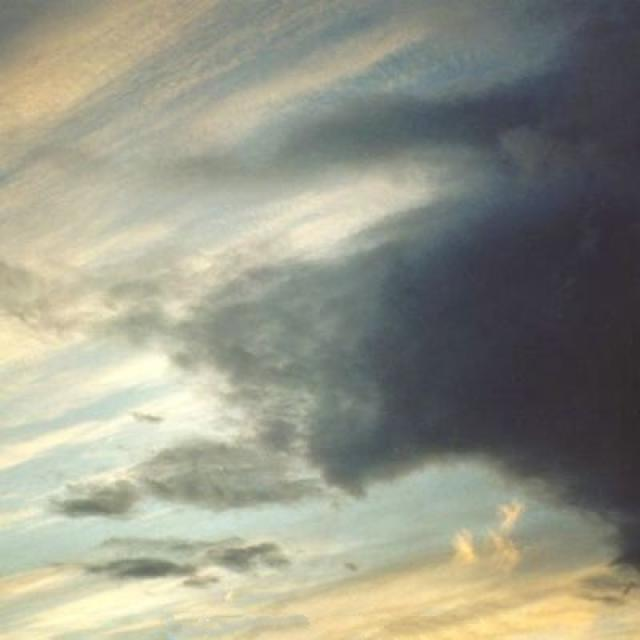Cs: (1, 78, 640, 511)
